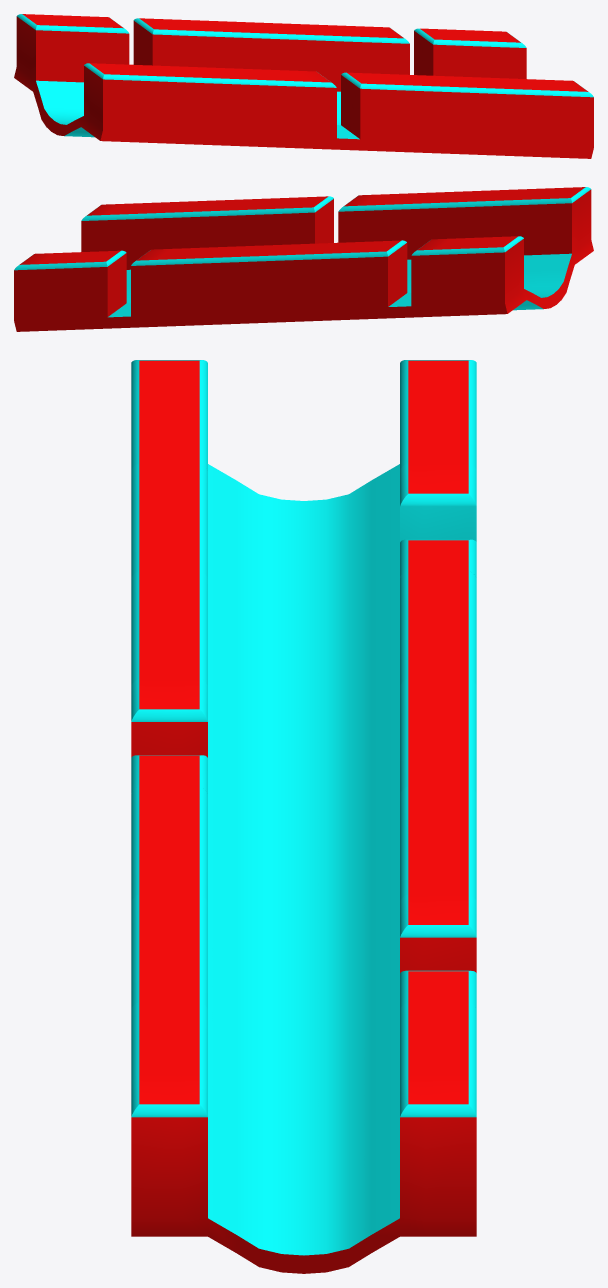
Rendered from BigBalls_Ground.fbx.
The picture shows the model from 3 angles, top to bottom: view 1: azimuth 30°, elevation 25°; view 2: azimuth 150°, elevation 25°; view 3: azimuth 270°, elevation 25°; orthographic projection. The views are drawn at different scales.
Visible parts, largest first — view 1: Ball_Ground_V2; view 2: Ball_Ground_V2; view 3: Ball_Ground_V2.
Part boxes in pixels (x1,y1,x2,y2): Ball_Ground_V2: (14,14,593,158); Ball_Ground_V2: (14,187,593,331); Ball_Ground_V2: (131,360,476,1273).
Bounding box in the file's own units: 4812 × 2052 × 1443.
